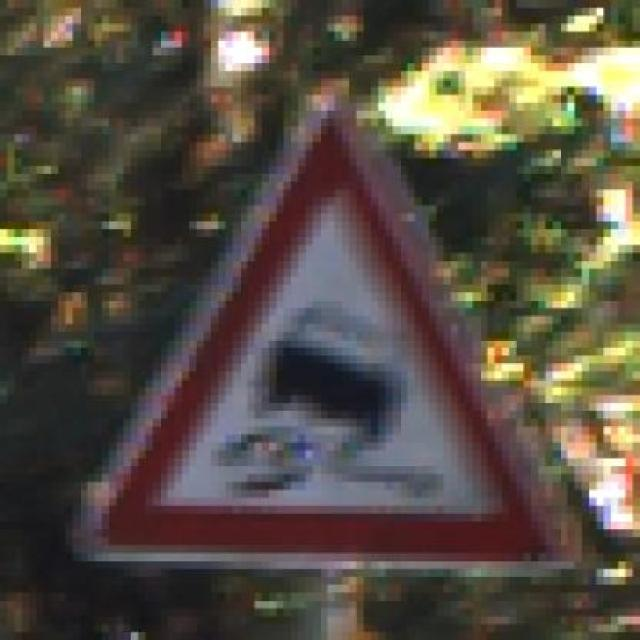Slippery Road Ahead: (66, 86, 596, 569)
